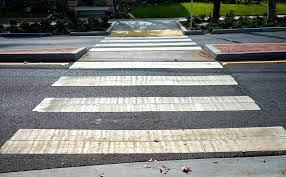crosswalk: (0, 36, 286, 152)
